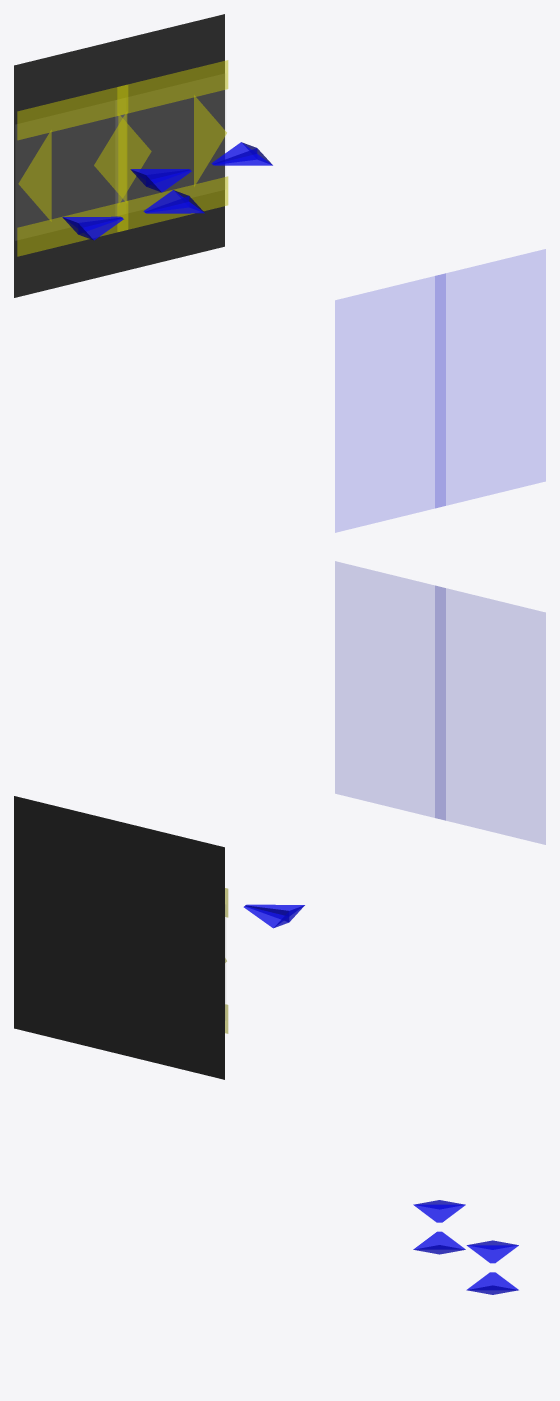
File: StackedBranchPointsObjContent.obj
3 renders of one model, top to bottom at view 1: azimuth 30°, elevation 25°; view 2: azimuth 150°, elevation 25°; view 3: azimuth 270°, elevation 25°, orthographic. The views are drawn at different scales.
Bounding box in the file's own units: 1.9 × 2 × 5.
